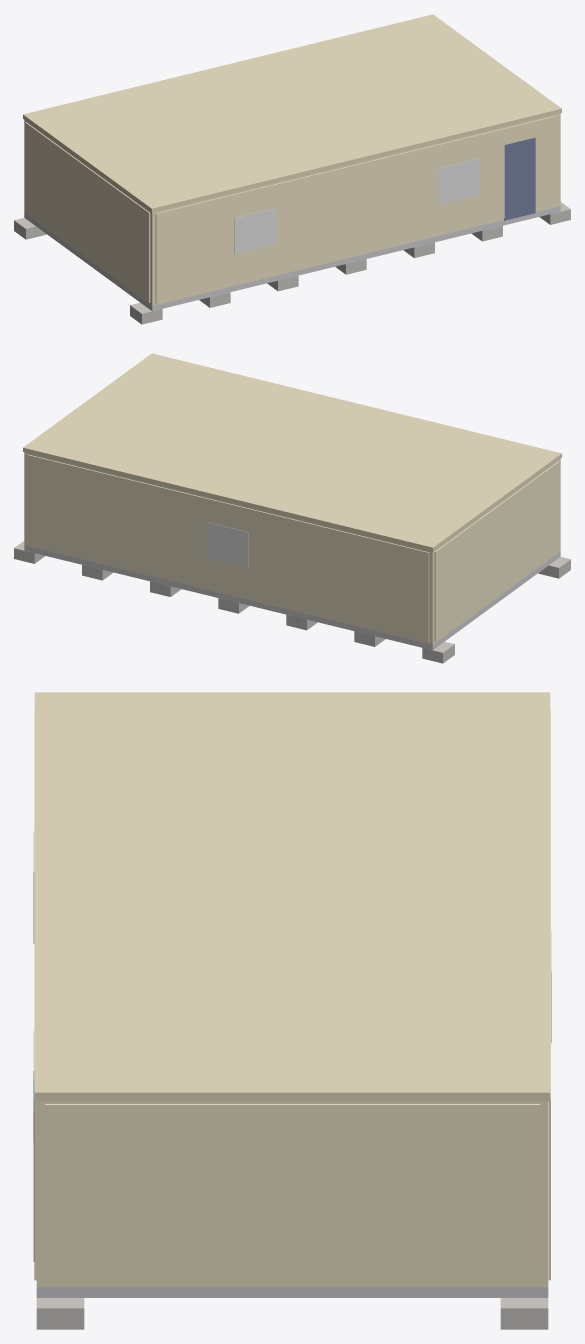
Rendered from Studio-40-Base-RiceYellow-LOD1.glb.
3 views of the same model, one above another, from view 1: azimuth 30°, elevation 25°; view 2: azimuth 150°, elevation 25°; view 3: azimuth 270°, elevation 25° (orthographic). The views are drawn at different scales.
Parts seen in each view (by area): view 1: RoofMain, ExteriorPanelsStandard, BaseFrame, WindowsStandard, ExteriorShell, FoundationBlocks, EntryDoor; view 2: RoofMain, ExteriorPanelsStandard, BaseFrame, ExteriorShell, FoundationBlocks, WindowsStandard; view 3: RoofMain, ExteriorPanelsStandard, ExteriorShell, BaseFrame, FoundationBlocks.
Boxes of the visible parts, box(x1,y1,x2,y2) form: RoofMain: box(23, 14, 561, 212); ExteriorPanelsStandard: box(25, 115, 557, 303); BaseFrame: box(24, 206, 560, 311); WindowsStandard: box(234, 158, 479, 254); ExteriorShell: box(24, 113, 560, 305); FoundationBlocks: box(14, 202, 570, 324); EntryDoor: box(504, 137, 535, 220); RoofMain: box(23, 353, 561, 551); ExteriorPanelsStandard: box(27, 454, 559, 642); BaseFrame: box(24, 545, 560, 650); ExteriorShell: box(24, 452, 560, 644); FoundationBlocks: box(14, 541, 570, 663); WindowsStandard: box(207, 522, 248, 568); RoofMain: box(34, 692, 550, 1101); ExteriorPanelsStandard: box(34, 708, 550, 1284); ExteriorShell: box(36, 1101, 548, 1287); BaseFrame: box(36, 1287, 548, 1297); FoundationBlocks: box(36, 1298, 548, 1329).
Bounding box in the file's own units: 12.49 × 3.17 × 6.53.
